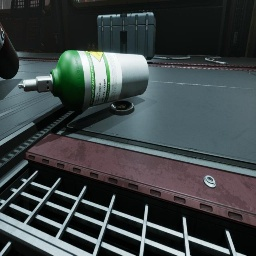0: (18, 50, 149, 111)
NitrogenTank ,: (0, 22, 19, 80)
